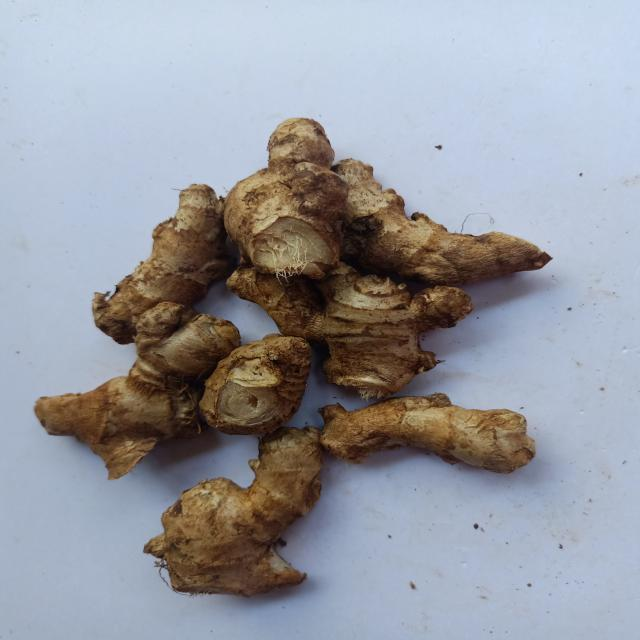Ginger: (226, 262, 472, 399), (143, 427, 323, 598), (331, 158, 553, 286), (92, 184, 232, 344), (33, 359, 200, 480), (224, 117, 348, 278), (318, 393, 536, 474), (199, 334, 311, 435), (226, 268, 325, 342)
